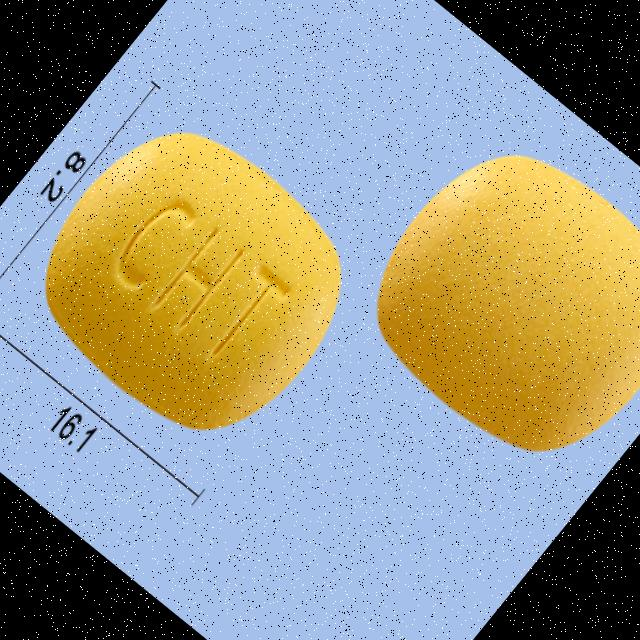Croracin: (4, 92, 386, 469)
